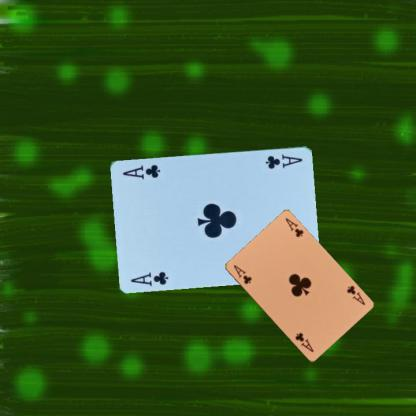Ac: (128, 268, 170, 287), (263, 151, 304, 170), (231, 262, 253, 286), (344, 283, 366, 306)
